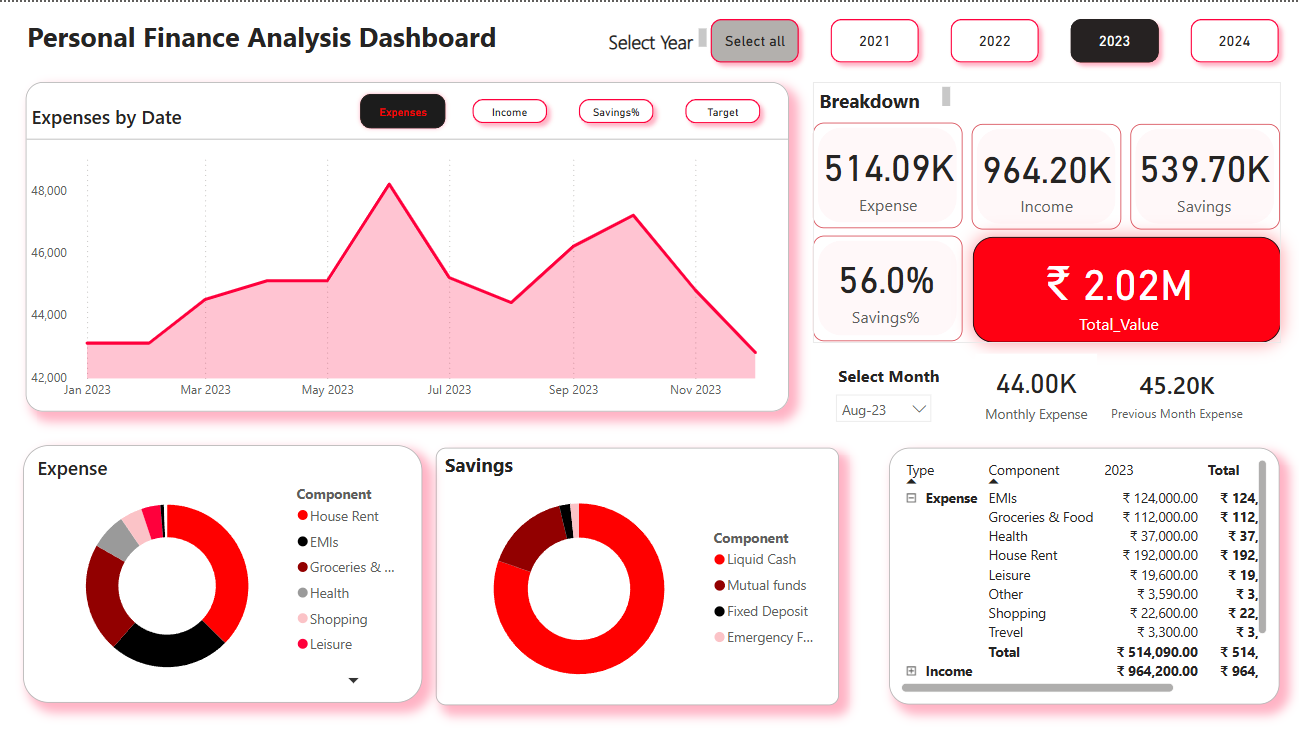

What the dashboard file says about the page in this screenshot:
{"tool":"powerbi","page":{"name":"Page 1","canvas":[1280,720],"ordinal":0},"visuals":[{"type":"shape","box":[1114.3,120.4,147.1,103.8],"z":0,"group":"g4"},{"type":"shape","box":[958.6,231.5,302.9,104.3],"z":0,"group":"g5"},{"type":"shape","box":[801.7,230.4,147.1,103.8],"z":1000,"group":"g3"},{"type":"card","fields":{"Values":["Dataset.Total_Value"]},"box":[1013.4,235.5,178.3,100],"z":1000,"group":"g5"},{"type":"advancedSlicerVisual","fields":{"Values":["Dataset.Year"]},"box":[684.3,0,595.7,77.1],"z":2000},{"type":"shape","box":[958.4,119.4,147.1,103.8],"z":2000,"group":"g2"},{"type":"shape","box":[801.7,118.1,147.1,103.8],"z":3000,"group":"g1"},{"type":"donutChart","title":"Savings","fields":{"Y":["Dataset.Savings"],"Category":["Dataset.Component"]},"box":[430,438.3,396.7,253.3],"z":3000},{"type":"donutChart","title":"Expense","fields":{"Y":["Dataset.Expense"],"Category":["Dataset.Component"]},"box":[23.3,436.7,393.3,253.3],"z":4000},{"type":"card","fields":{"Values":["Dataset.Income"]},"box":[962.1,125.6,140.9,92.7],"z":5000,"group":"g2"},{"type":"pivotTable","fields":{"Rows":["Dataset.Type","Dataset.Component"],"Values":["Dataset.Total_Value"],"Columns":["Dataset.Year"]},"box":[875.7,438.6,384.3,252.9],"z":5000},{"type":"areaChart","fields":{"Category":["Dataset.Date"],"Y":["Dataset.Line_Chart_Measures"]},"box":[25.7,78.6,751.4,324.3],"z":6000,"group":"g7"},{"type":"card","fields":{"Values":["Dataset.Savings"]},"box":[1114.3,121.6,145.9,101.3],"z":6000,"group":"g4"},{"type":"card","fields":{"Values":["Dataset.Expense"]},"box":[805.4,124.3,140.9,91.5],"z":7000,"group":"g1"},{"type":"slicer","fields":{"Values":["Selected_Date.Month-Year"]},"box":[814.3,375.7,114.3,50],"z":7000,"group":"g6"},{"type":"advancedSlicerVisual","fields":{"Values":["Line_Selection_Table.Type"]},"box":[342.8,78.6,528.6,58.6],"z":8000,"group":"g7"},{"type":"card","fields":{"Values":["Dataset.Savings%"]},"box":[802.9,230.4,140.9,102.6],"z":8000,"group":"g3"},{"type":"textbox","box":[22.9,10,500,58.6],"z":9000},{"type":"card","fields":{"Values":["Dataset.Monthly_Sale"]},"box":[1081.4,348.6,157.1,74.3],"z":10000,"group":"g9"},{"type":"card","fields":{"Values":["Dataset.PY_Month_Sale"]},"box":[961.4,345.7,120,74.3],"z":11000,"group":"g9"},{"type":"group","id":"g1","title":"Group 1","box":[801.7,118.1,147.1,103.8],"z":12000,"group":"g8"},{"type":"group","id":"g2","title":"Group 2","box":[958.4,119.4,147.1,103.8],"z":13000,"group":"g8"},{"type":"group","id":"g3","title":"Group 3","box":[801.7,230.4,147.1,103.8],"z":14000,"group":"g8"},{"type":"group","id":"g4","title":"Group 4","box":[1114.3,120.4,147.1,103.8],"z":15000,"group":"g8"},{"type":"textbox","box":[595,21.2,106.2,31.2],"z":15001},{"type":"textbox","box":[821.4,351.4,120,31.4],"z":15002,"group":"g6"},{"type":"textbox","box":[802.9,78.6,138.6,31.4],"z":15003,"group":"g8"},{"type":"group","id":"g5","title":"Group 5","box":[958.6,231.5,302.9,104.3],"z":15004,"group":"g8"},{"type":"group","id":"g6","title":"Group 6","box":[814.3,351.4,127.1,74.3],"z":15005,"group":"g9"},{"type":"group","id":"g7","title":"Group 7","box":[25.7,78.6,845.7,324.3],"z":15006},{"type":"group","id":"g8","title":"Group 8","box":[801.7,78.6,459.8,257.1],"z":15007},{"type":"group","id":"g9","title":"Group 9","box":[814.3,345.7,424.3,80],"z":15008}]}

Visuals, with their boxes in screenshot pixels (x1, y1, x2, y2), scaled from the page's 1280x720 canvas onto the 1299x731 screenshot:
shape: region(1131, 122, 1280, 228)
shape: region(973, 235, 1280, 341)
shape: region(814, 234, 963, 339)
card - Dataset.Total_Value: region(1028, 239, 1209, 341)
advancedSlicerVisual - Dataset.Year: region(694, 0, 1298, 78)
shape: region(973, 121, 1122, 227)
shape: region(814, 120, 963, 225)
"Savings" donutChart: region(436, 445, 839, 702)
"Expense" donutChart: region(24, 443, 423, 701)
card - Dataset.Income: region(976, 128, 1119, 222)
pivotTable - Dataset.Type x Dataset.Component: region(889, 445, 1279, 702)
areaChart - Dataset.Date x Dataset.Line_Chart_Measures: region(26, 80, 789, 409)
card - Dataset.Savings: region(1131, 123, 1279, 226)
card - Dataset.Expense: region(817, 126, 960, 219)
slicer - Selected_Date.Month-Year: region(826, 381, 942, 432)
advancedSlicerVisual - Line_Selection_Table.Type: region(348, 80, 884, 139)
card - Dataset.Savings%: region(815, 234, 958, 338)
textbox: region(23, 10, 531, 70)
card - Dataset.Monthly_Sale: region(1097, 354, 1257, 429)
card - Dataset.PY_Month_Sale: region(976, 351, 1097, 426)
"Group 1" group: region(814, 120, 963, 225)
"Group 2" group: region(973, 121, 1122, 227)
"Group 3" group: region(814, 234, 963, 339)
"Group 4" group: region(1131, 122, 1280, 228)
textbox: region(604, 22, 712, 53)
textbox: region(834, 357, 955, 389)
textbox: region(815, 80, 955, 112)
"Group 5" group: region(973, 235, 1280, 341)
"Group 6" group: region(826, 357, 955, 432)
"Group 7" group: region(26, 80, 884, 409)
"Group 8" group: region(814, 80, 1280, 341)
"Group 9" group: region(826, 351, 1257, 432)
